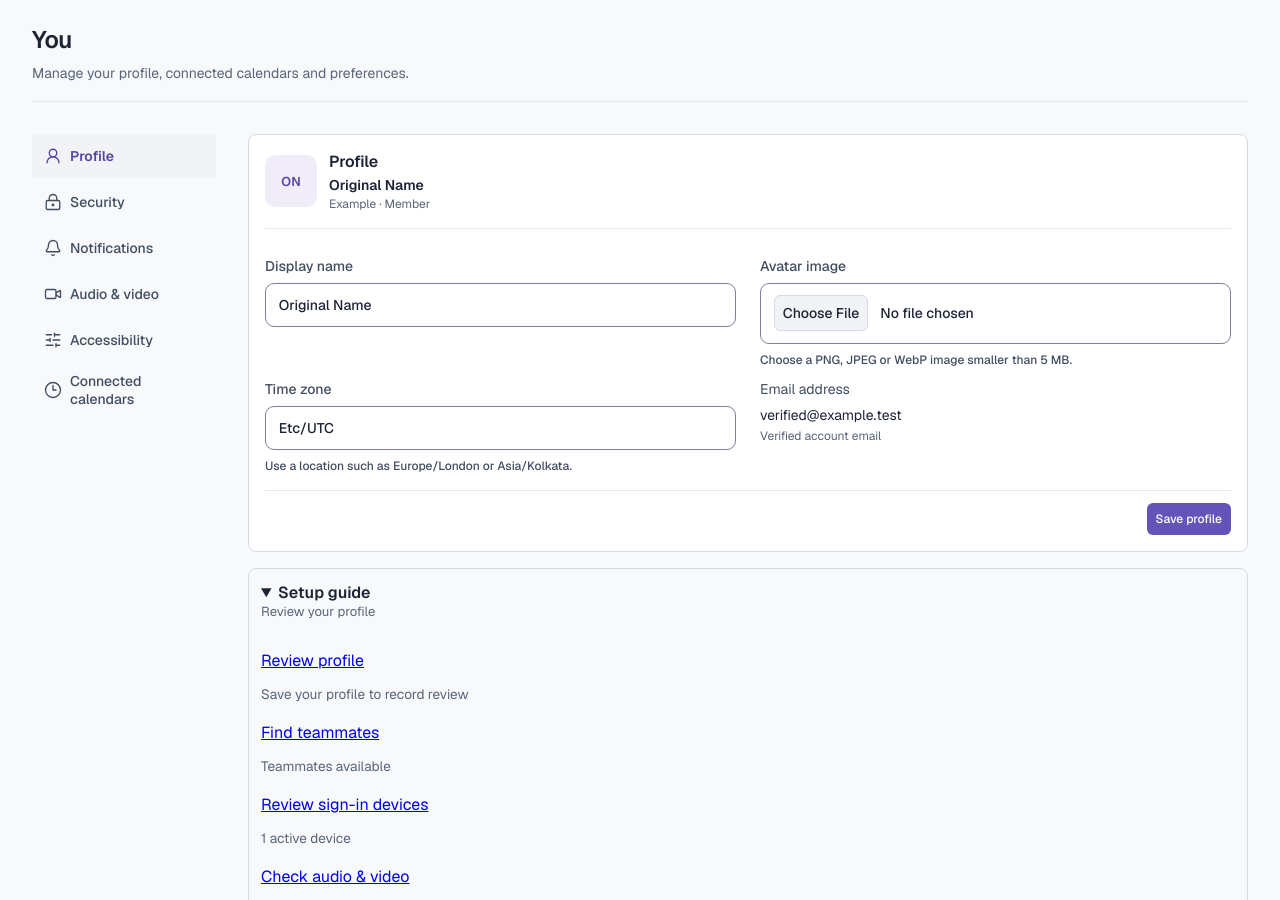
Test: profile settings › preserves a newer timezone edit when an earlier combined profile save finishes
Replace the text in the field labelled "Time zone" with "Europe/London". click: (500, 428)
box: [265, 406, 736, 450]
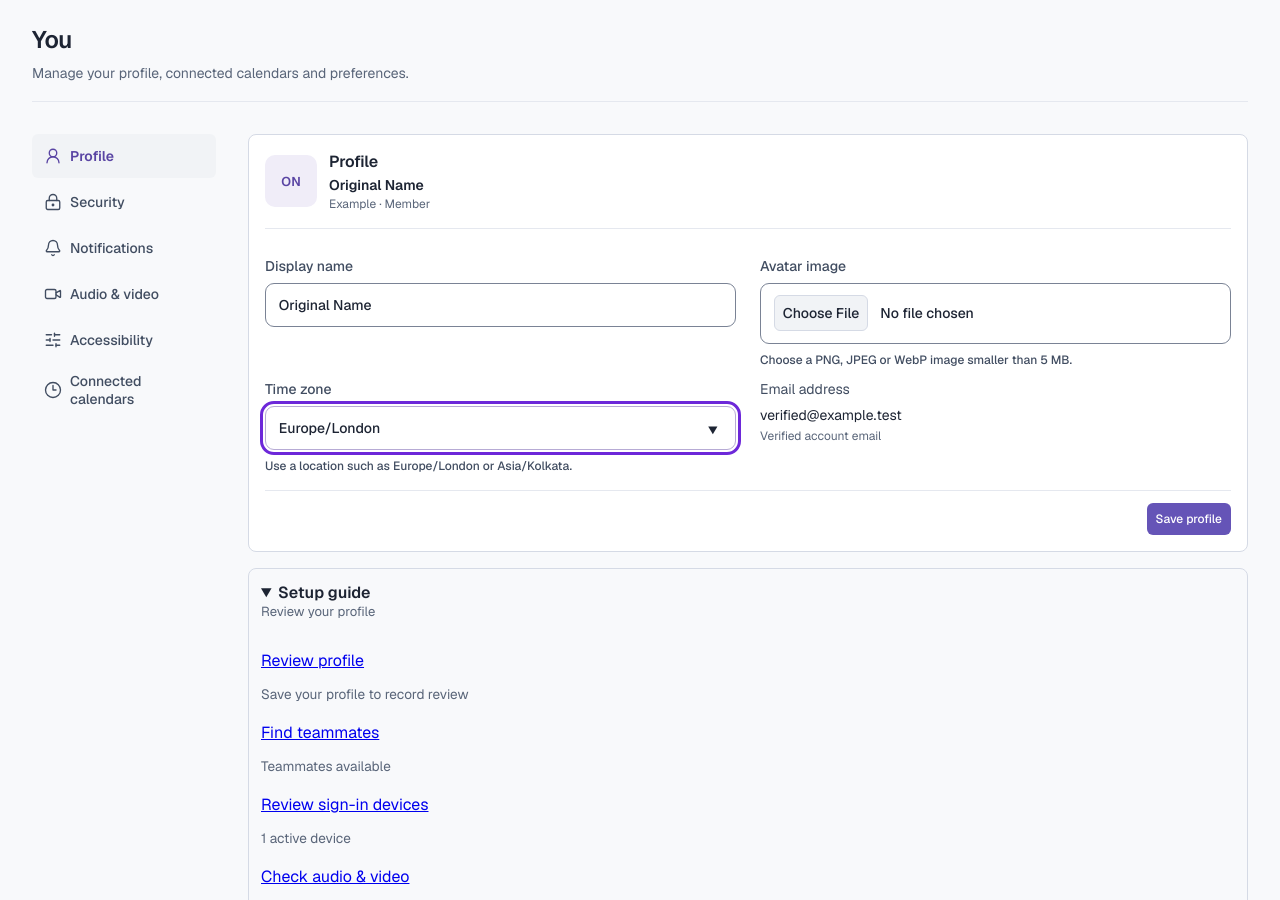
Click the button "Save profile". click: (1189, 519)
box: [1146, 503, 1231, 535]
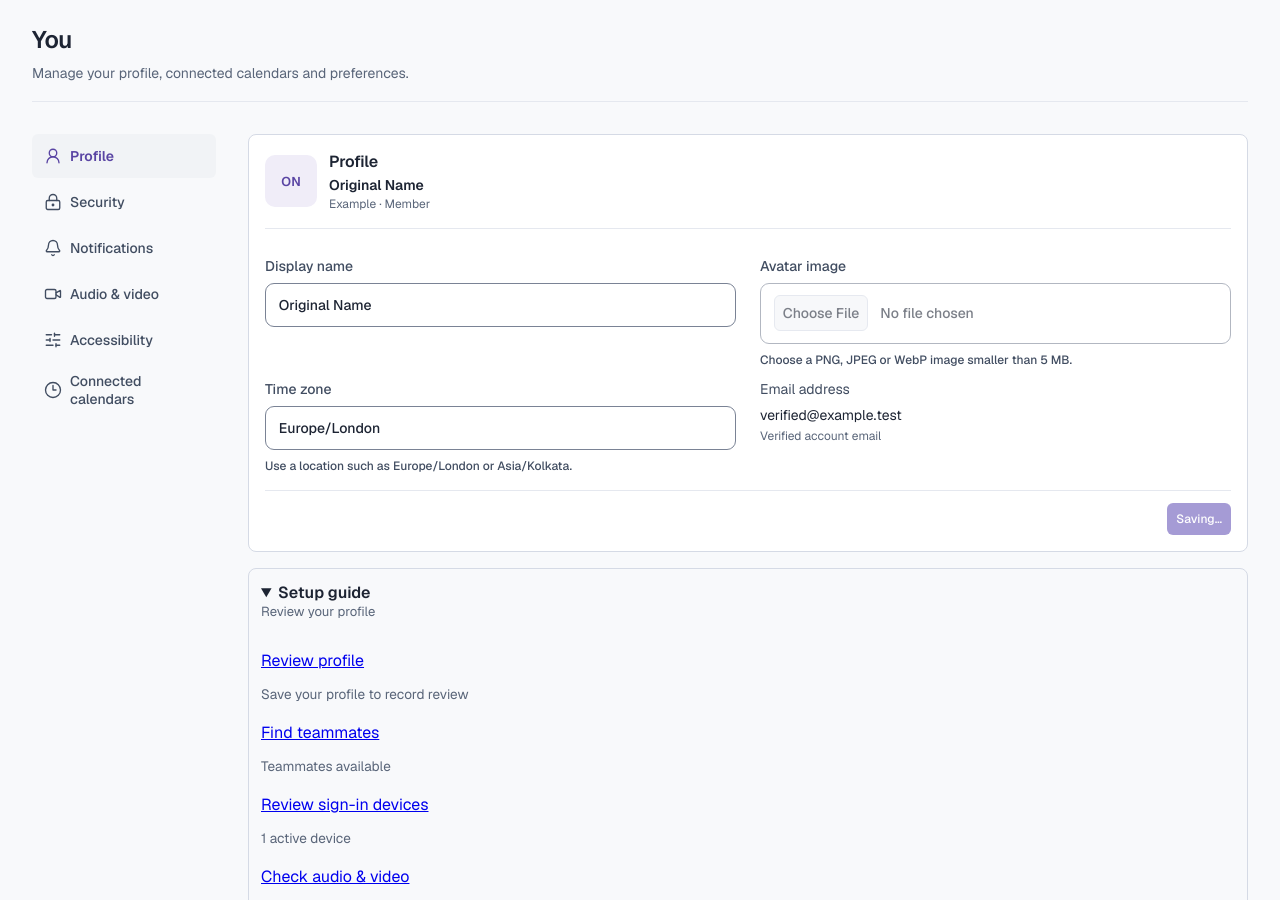
Type "Asia/Tokyo" into the field labelled "Time zone". click: (500, 428)
box: [265, 406, 736, 450]
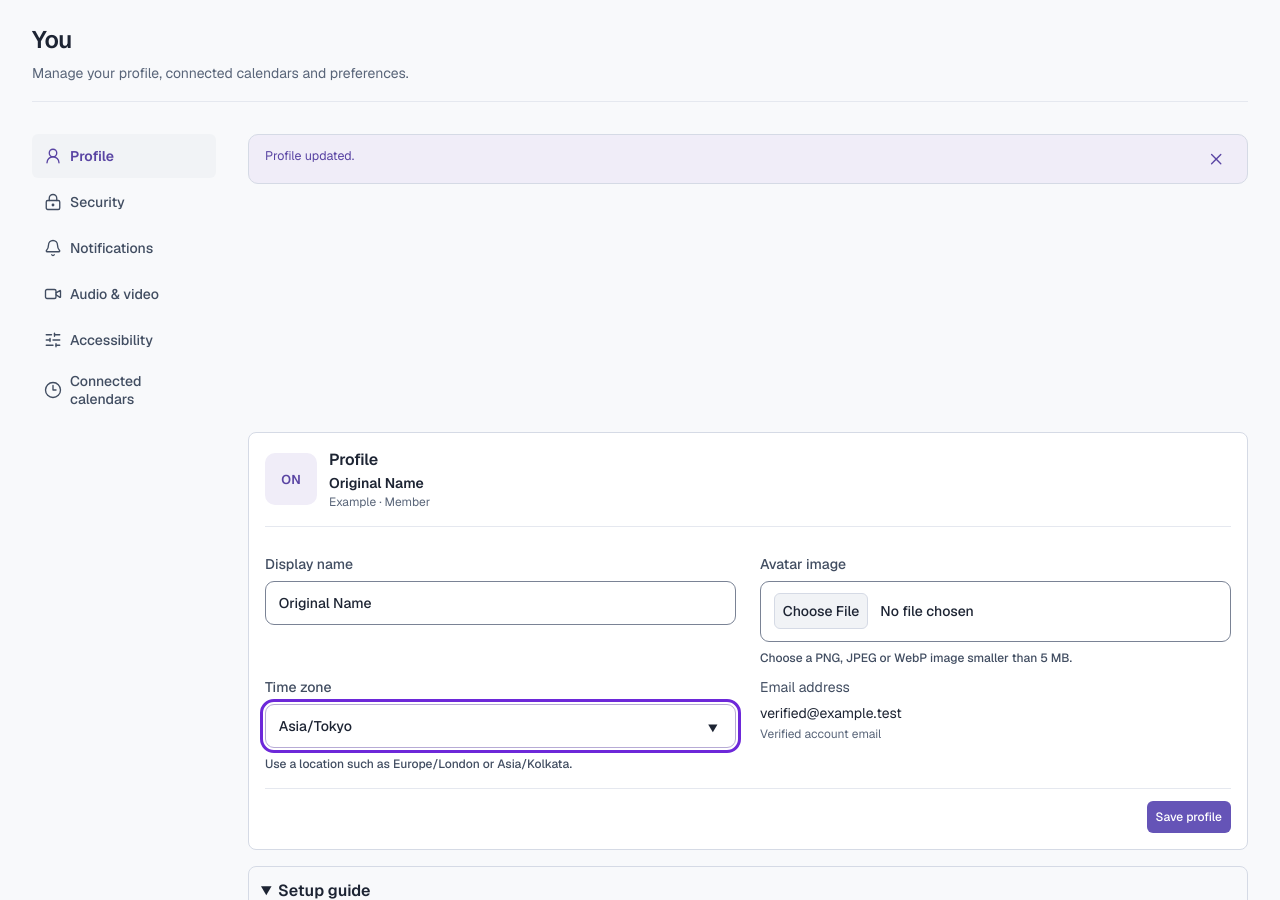
Expected: the message reads "Profile updated.", [265, 147, 354, 164]
